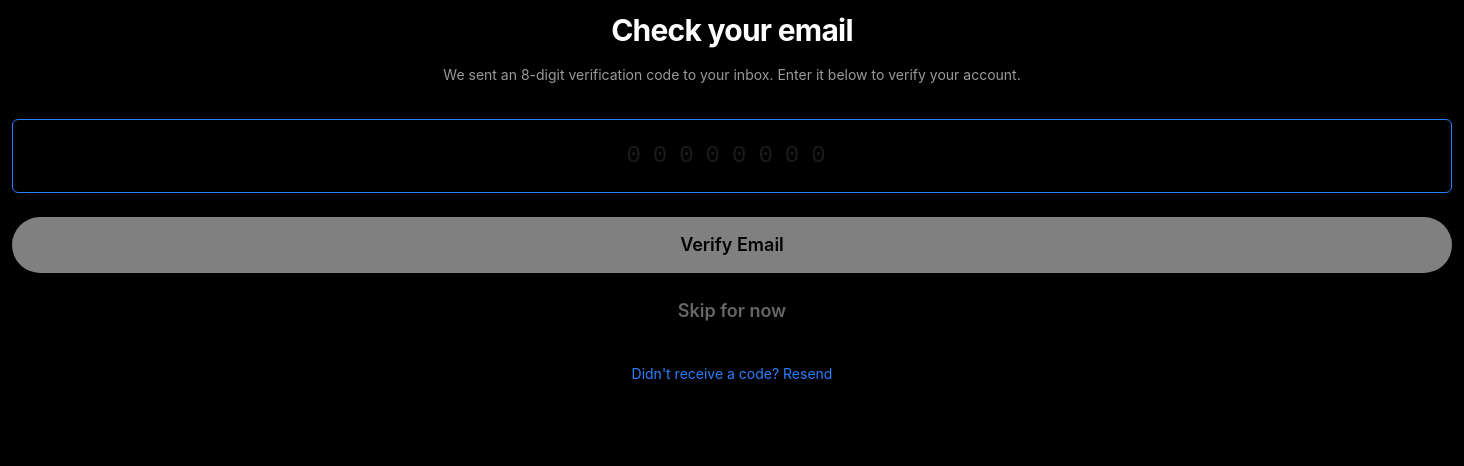
Test: VerifyEmailView › reports a failed resend instead of rejecting into nowhere
The image size is (1464, 466).
Click the button "Didn't receive a code? Resend" at (732, 374), box [632,364,832,384]
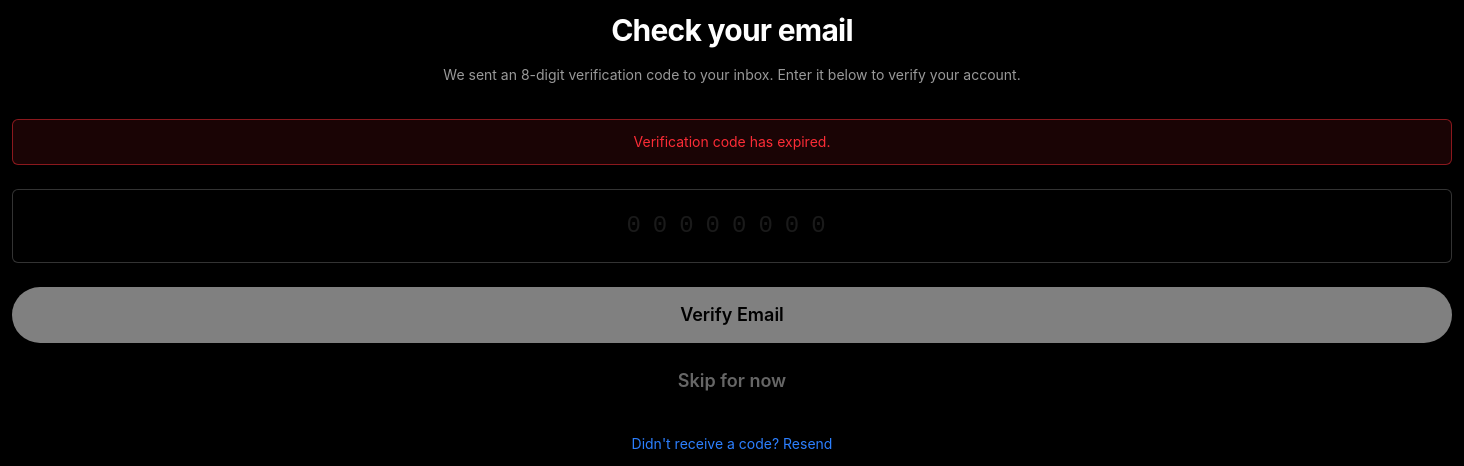
Result: the text "Verification code has expired." is shown at [12,119,1452,165]
